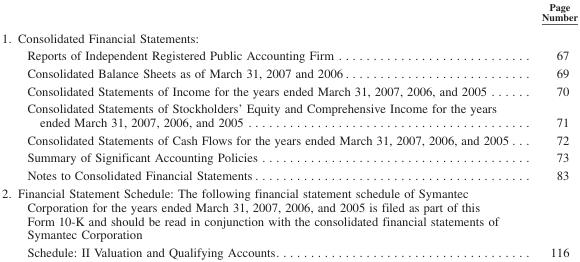table: (1, 0, 576, 258)
table column: (1, 0, 524, 258), (524, 0, 576, 258)
table column header: (1, 0, 576, 26)
table projected row header: (1, 199, 576, 243), (1, 26, 576, 46), (1, 183, 576, 199)
table row: (1, 199, 576, 243), (1, 99, 576, 130), (1, 0, 576, 26), (1, 26, 576, 46), (1, 63, 576, 81), (1, 81, 576, 99), (1, 130, 576, 148), (1, 148, 576, 166), (1, 46, 576, 63), (1, 166, 576, 183), (1, 183, 576, 199), (1, 243, 576, 258)
